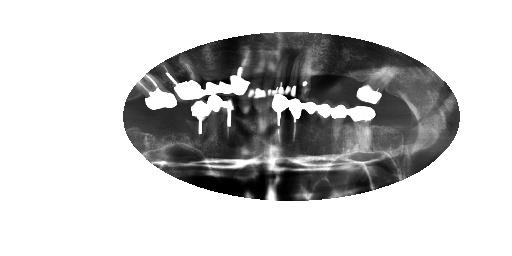i10decay: (251, 97, 272, 139)
i11decay: (234, 96, 253, 139)
i12healthy: (220, 96, 236, 139)
i13loss: (205, 91, 224, 137)
i14healthy: (189, 96, 211, 138)
i15loss: (175, 104, 195, 143)
i16loss: (159, 105, 179, 149)
i1loss: (388, 109, 410, 144)
i2loss: (374, 109, 391, 146)
i3healthy: (345, 103, 378, 146)
i4healthy: (329, 101, 347, 144)
i5loss: (314, 97, 331, 140)
i6loss: (300, 97, 317, 140)
i7healthy: (286, 96, 304, 145)
i8healthy: (270, 92, 289, 146)
u10decay: (253, 55, 274, 99)
u11decay: (246, 59, 258, 98)
u12healthy: (226, 44, 256, 99)
u13loss: (216, 53, 233, 96)
u14loss: (197, 55, 220, 96)
u15healthy: (161, 60, 205, 100)
u16healthy: (135, 74, 179, 112)
u1loss: (401, 77, 419, 116)
u2loss: (377, 63, 404, 107)
u3healthy: (355, 60, 398, 106)
u4loss: (341, 56, 363, 99)
u5loss: (327, 46, 345, 98)
u6loss: (310, 47, 327, 98)
u7healthy: (298, 47, 314, 100)
u8healthy: (284, 46, 301, 98)
u9healthy: (272, 48, 286, 95)
